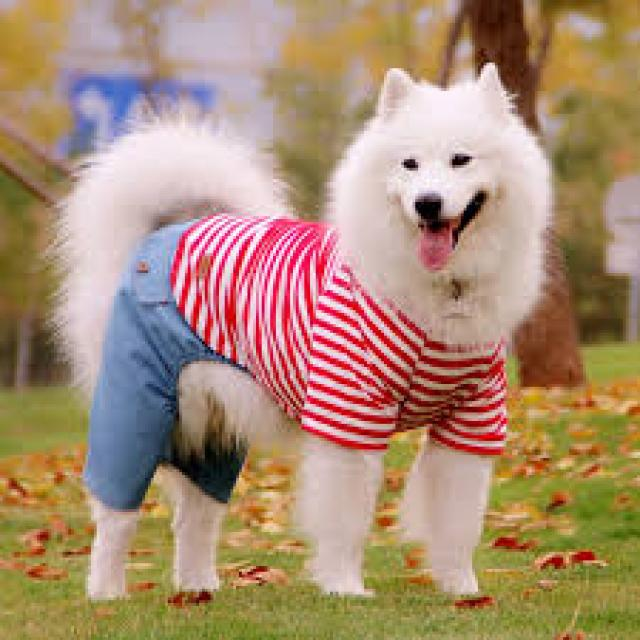dogs: (54, 62, 557, 604)
